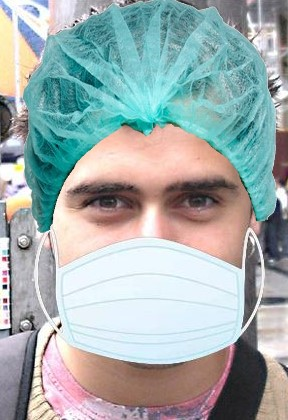with_mask_and_cap: (25, 1, 273, 367)
